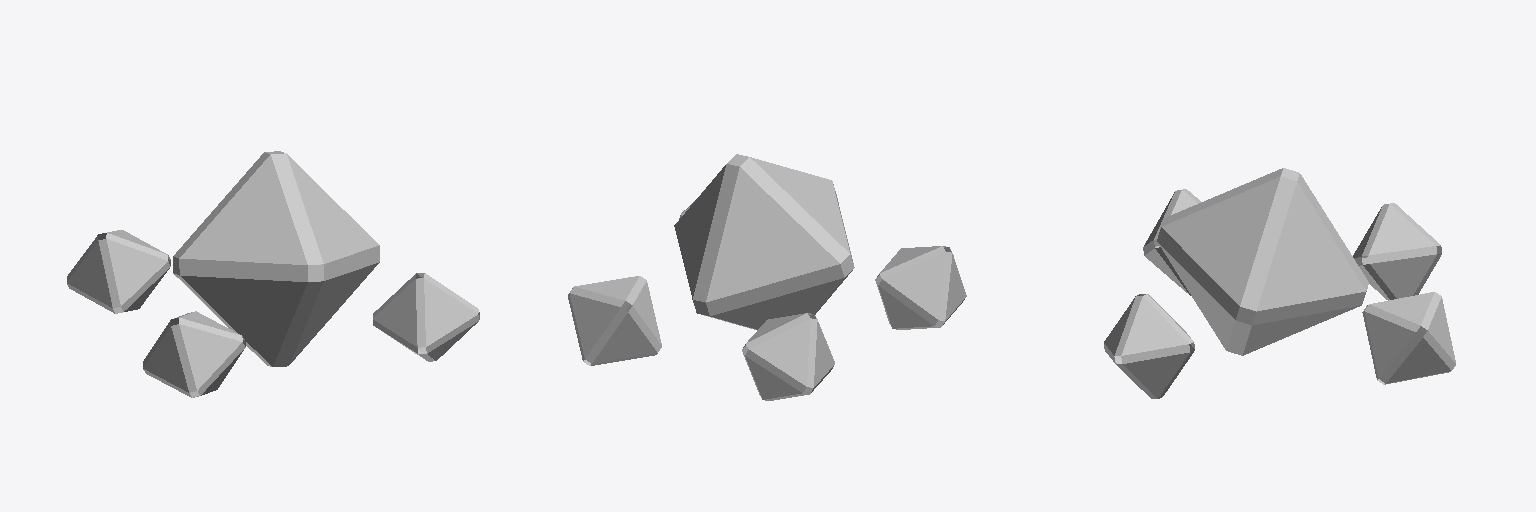
The model's file is Money.obj.
3 renders of one model, left to right at view 1: azimuth 30°, elevation 25°; view 2: azimuth 150°, elevation 25°; view 3: azimuth 270°, elevation 25°, orthographic.
Parts seen in each view (by area): view 1: Cube_Cube.001; view 2: Cube_Cube.001; view 3: Cube_Cube.001.
Part boxes in pixels (x1,y1,x2,y2): Cube_Cube.001: (67, 151, 479, 397); Cube_Cube.001: (568, 154, 966, 400); Cube_Cube.001: (1104, 168, 1455, 398).
Bounding box in the file's own units: 3.12 × 1.97 × 3.28.